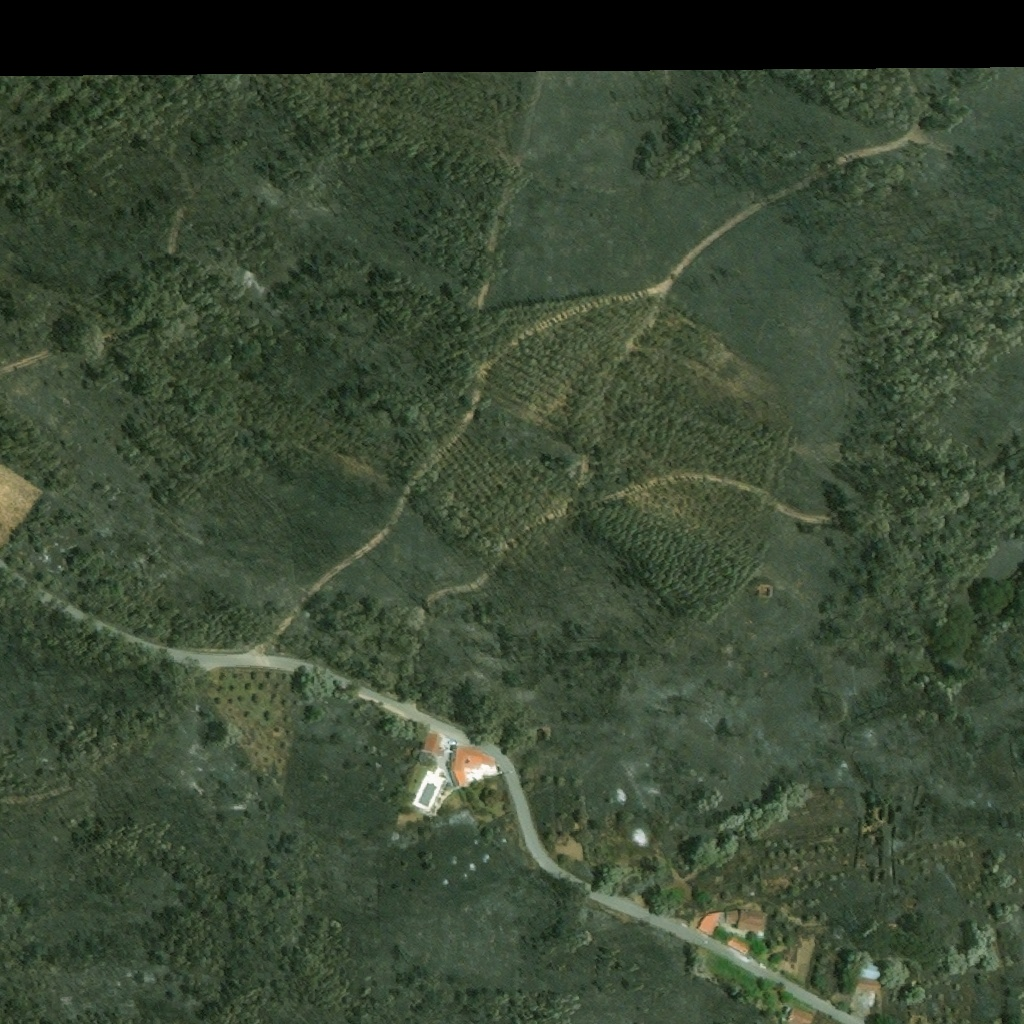0 no-damage: (450, 746, 496, 787), (723, 908, 766, 937), (695, 911, 723, 936), (858, 960, 884, 982), (725, 936, 751, 958), (419, 730, 442, 754), (788, 1007, 816, 1023), (857, 980, 882, 992)
